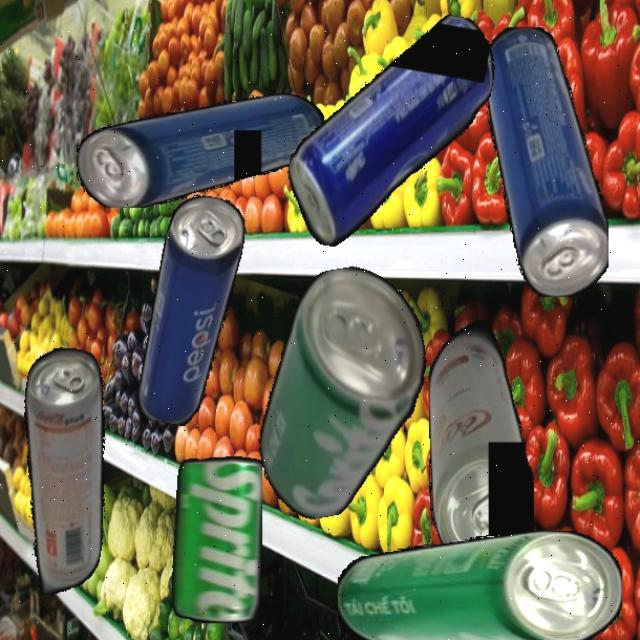debris: (277, 0, 503, 269), (232, 257, 450, 526), (0, 341, 134, 602), (482, 26, 608, 297), (337, 531, 622, 640), (77, 92, 324, 208), (134, 191, 250, 430), (428, 312, 534, 570), (142, 456, 262, 624)
